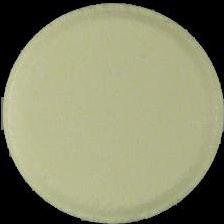43063-442: (0, 0, 224, 224)
